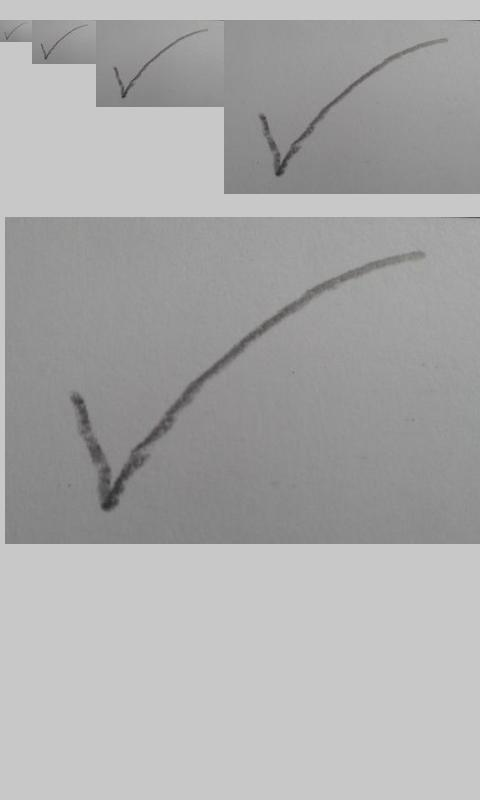check_box: (68, 255, 408, 511), (259, 39, 423, 177), (113, 29, 203, 99), (40, 24, 87, 60), (4, 23, 23, 40)
